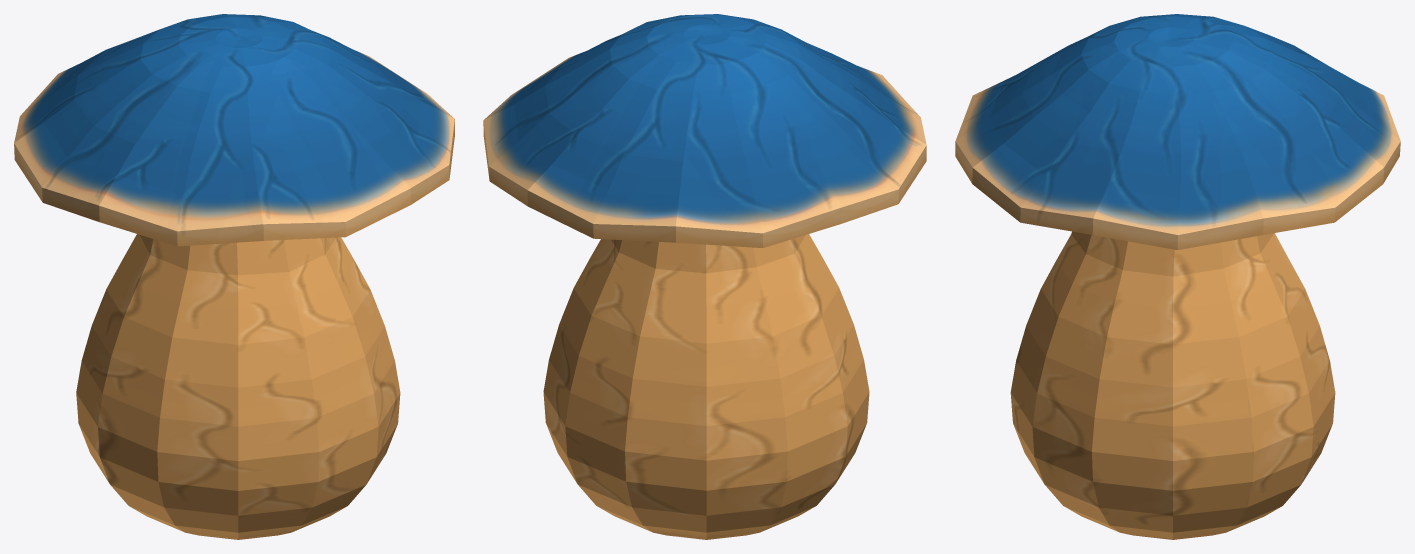
Rendered from SmallMushroom.fbx.
3 renders of one model, left to right at view 1: azimuth 30°, elevation 25°; view 2: azimuth 150°, elevation 25°; view 3: azimuth 270°, elevation 25°, orthographic.
Visible parts, largest first — view 1: SmallMushroom; view 2: SmallMushroom; view 3: SmallMushroom.
Part boxes in pixels (x1,y1,x2,y2): SmallMushroom: (14,14,454,539); SmallMushroom: (483,14,926,539); SmallMushroom: (955,14,1400,539).
Size of the model in its own units: 431 by 517 by 432.
Materials: 1 (1 with a texture image).
